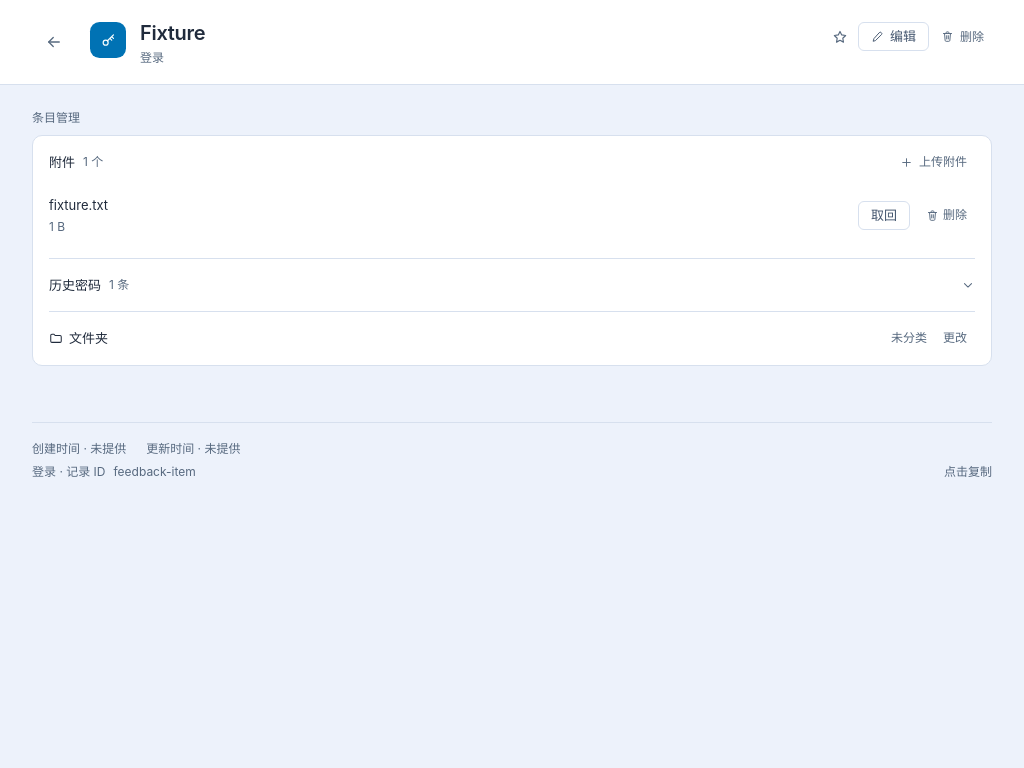
Test: shows a folder failure exactly once through the notification owner
The image size is (1024, 768).
Click the button "更改".
click(955, 338)  # box [935,324,975,353]
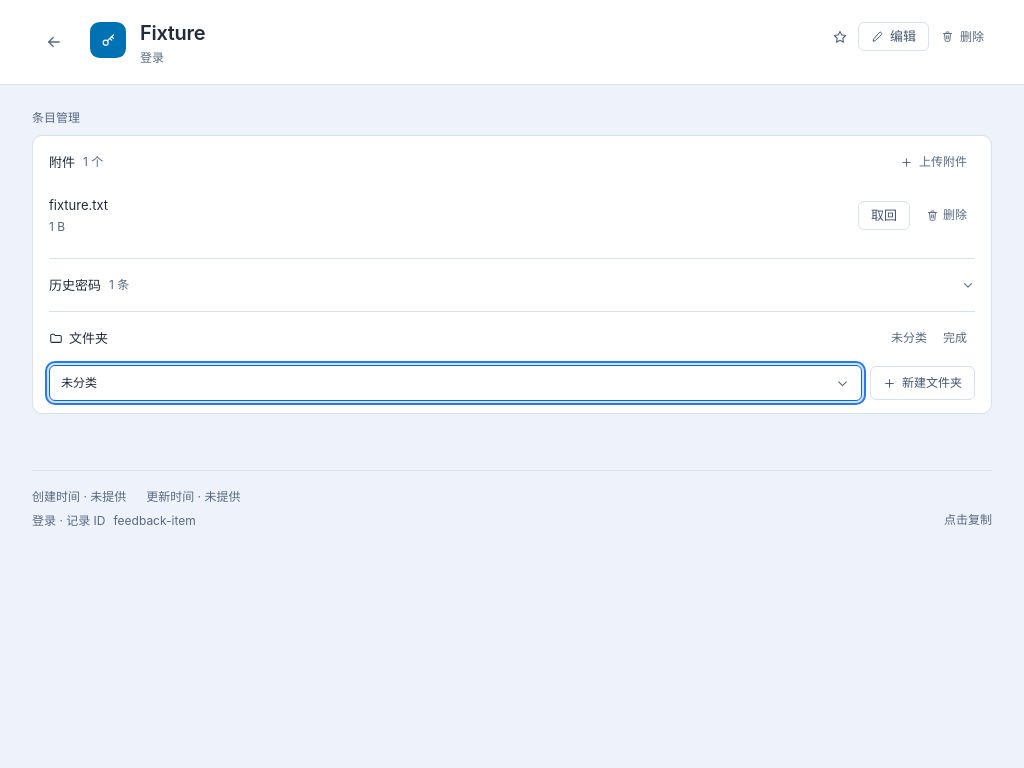
Click the dropdown labelled "未分类".
click(79, 382)  # box [49,365,862,401]
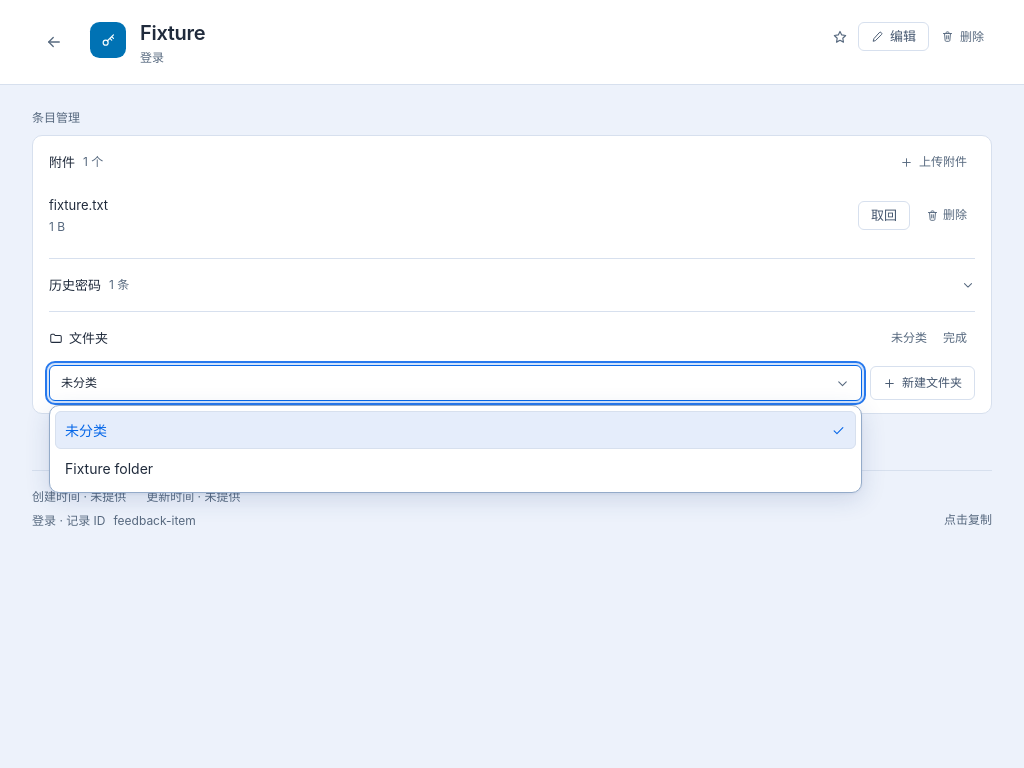
Click the option "Fixture folder".
click(109, 468)  # box [65,460,153,477]
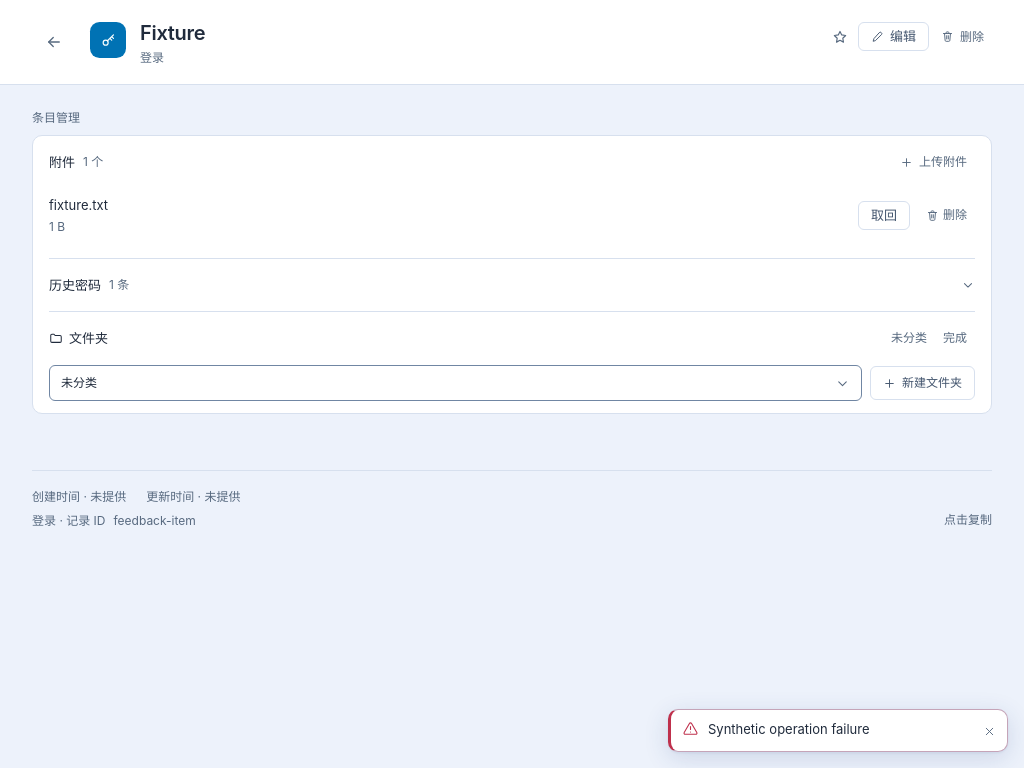
expect the message "Synthetic operation failure" is shown: met, box [668,709,1008,752]
